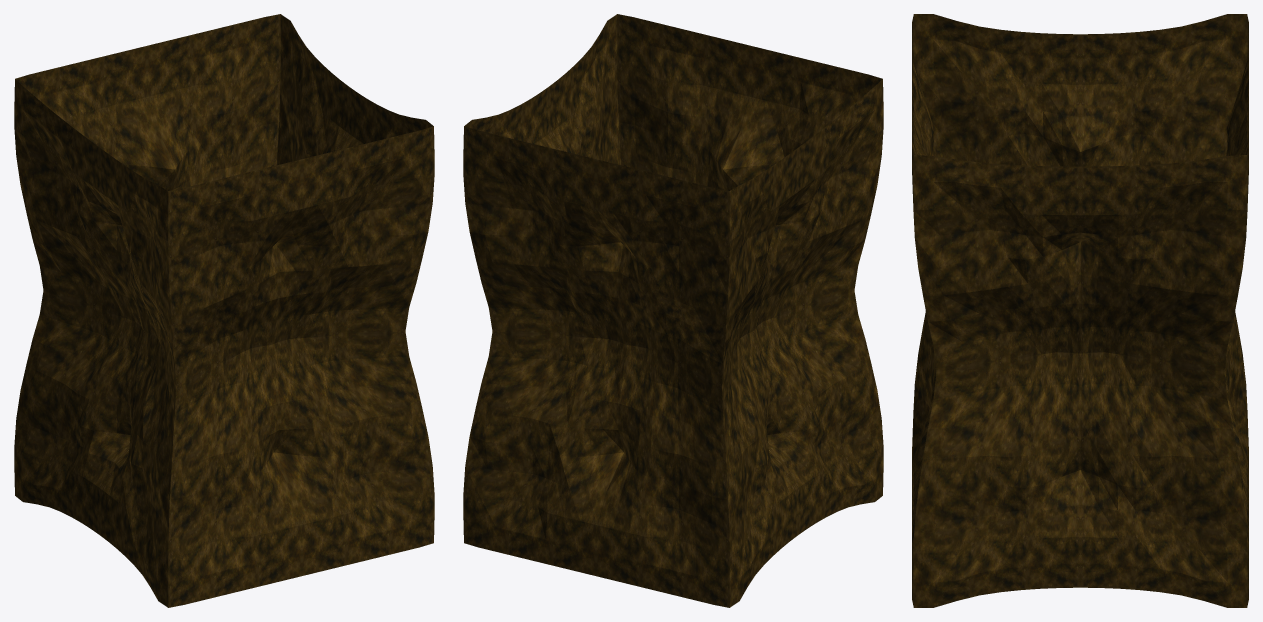
The model's file is mur_text.obj.
3 views of the same model, side by side, from view 1: azimuth 30°, elevation 25°; view 2: azimuth 150°, elevation 25°; view 3: azimuth 270°, elevation 25° (orthographic). The views are drawn at different scales.
Visible parts, largest first — view 1: Cube_Cube.001; view 2: Cube_Cube.001; view 3: Cube_Cube.001.
Boxes of the visible parts, x1=… form: Cube_Cube.001: x1=14, y1=14, x2=434, y2=607; Cube_Cube.001: x1=463, y1=14, x2=883, y2=607; Cube_Cube.001: x1=912, y1=14, x2=1248, y2=607.
Bounding box in the file's own units: 2 × 2.97 × 2.
1 material, 1 textured.
